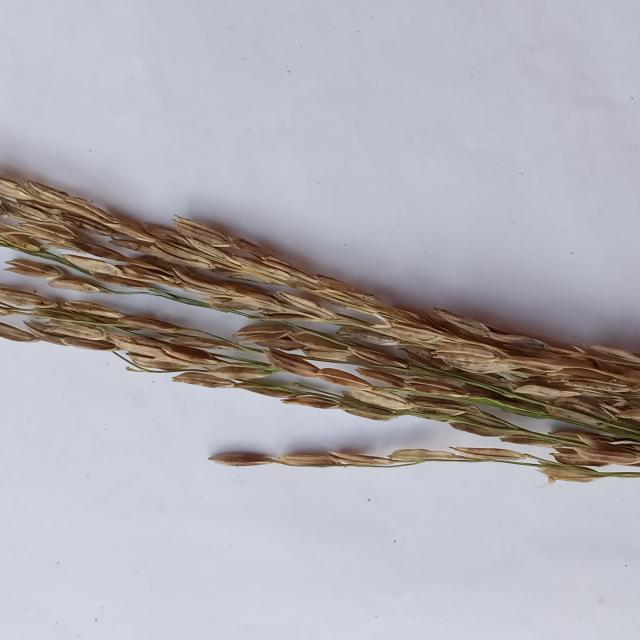Neck_Blast: (0, 175, 637, 454)
